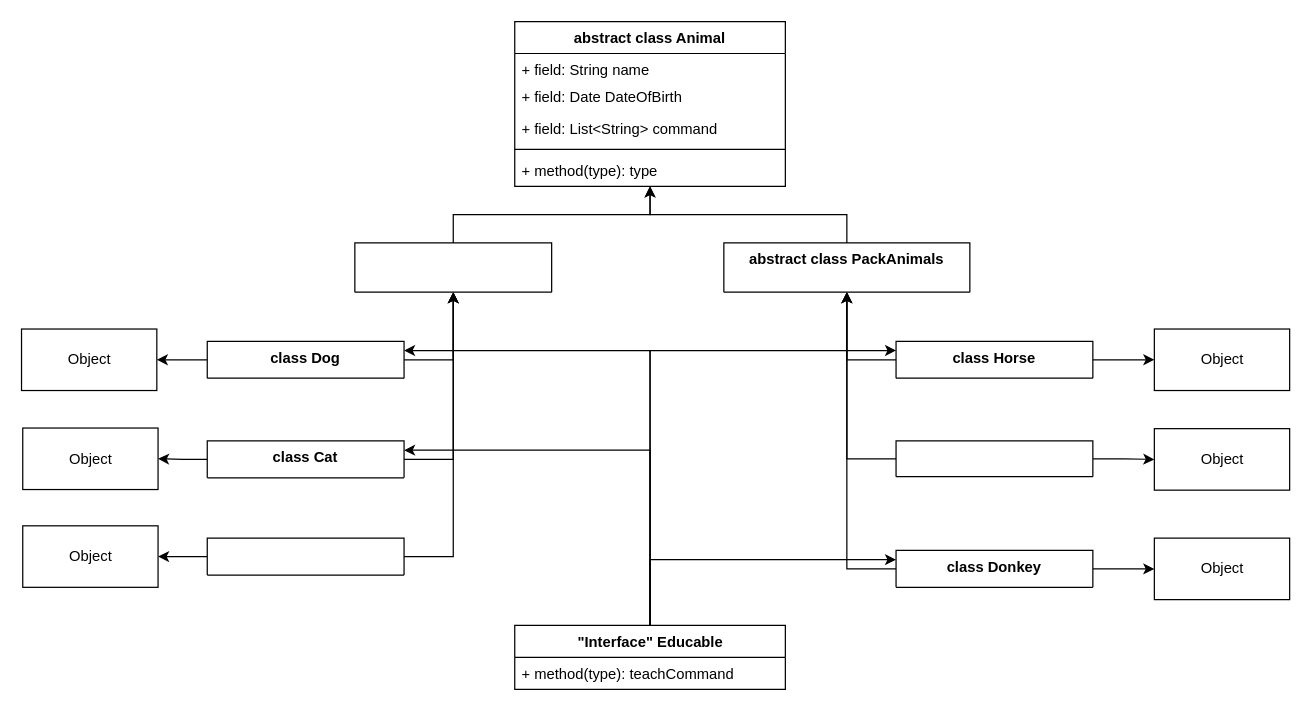
The diagram is 1311 pixels wide and 715 high, and some of its shapes have lost their labels. Each missing label, with the centre of its shape:
"abstract class Pet" goes at (x=453, y=267).
"class Camel" goes at (x=994, y=458).
"class Hamster" goes at (x=305, y=556).
